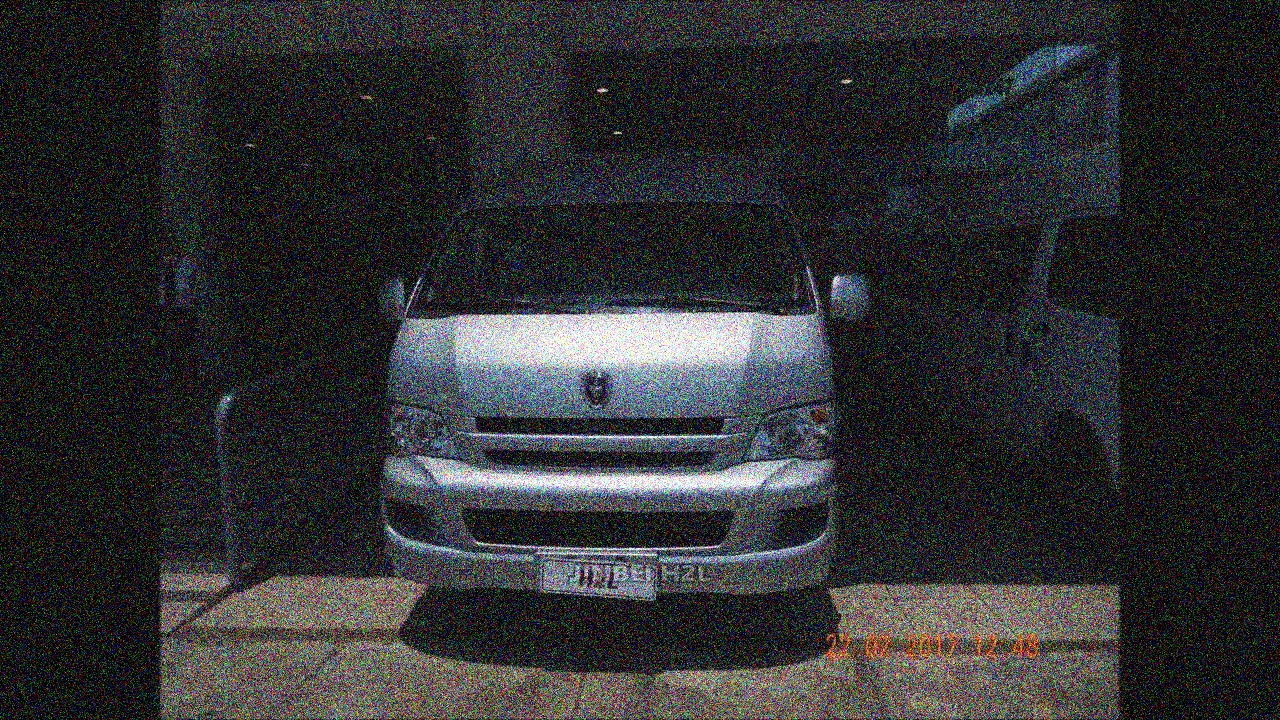van: (371, 144, 880, 632)
